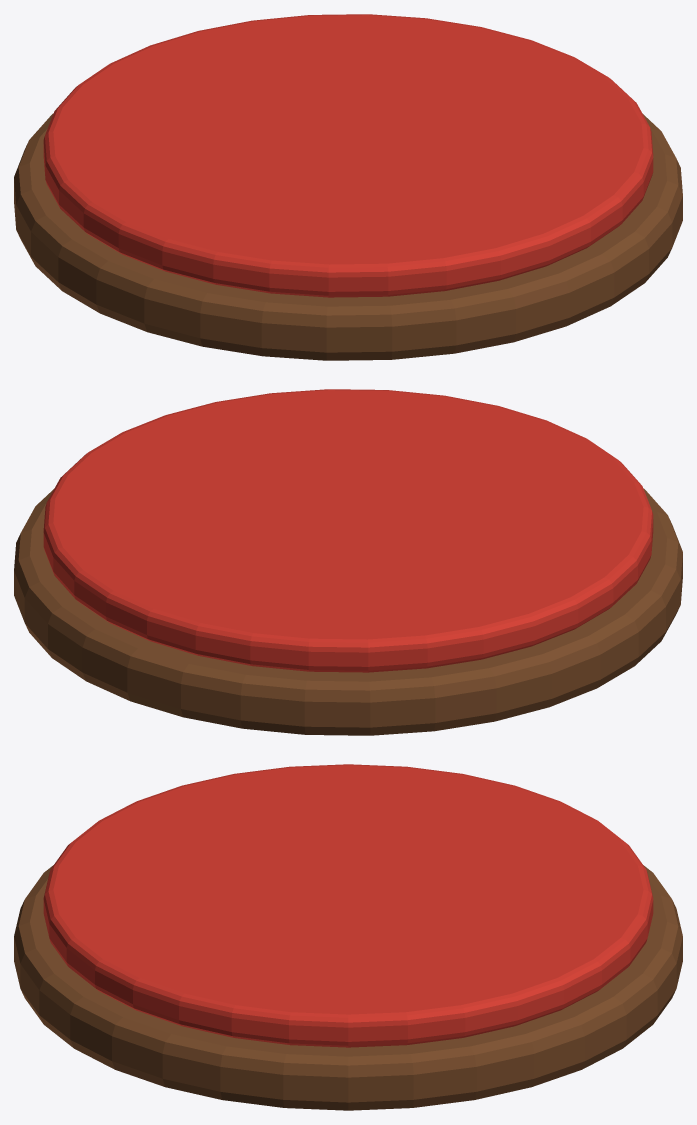
File: Turntable.fbx
The picture shows the model from 3 angles, top to bottom: view 1: azimuth 30°, elevation 25°; view 2: azimuth 150°, elevation 25°; view 3: azimuth 270°, elevation 25°; orthographic projection.
Parts seen in each view (by area): view 1: Turntable_Plate, Turntable_Base; view 2: Turntable_Plate, Turntable_Base; view 3: Turntable_Plate, Turntable_Base.
Boxes of the visible parts, bbox=[...] form: Turntable_Plate: bbox=[43, 14, 653, 297]; Turntable_Base: bbox=[14, 113, 682, 360]; Turntable_Plate: bbox=[43, 389, 653, 672]; Turntable_Base: bbox=[14, 488, 682, 735]; Turntable_Plate: bbox=[43, 764, 653, 1047]; Turntable_Base: bbox=[14, 865, 682, 1110].
Size of the model in its own units: 0.34 by 0.06 by 0.34.
